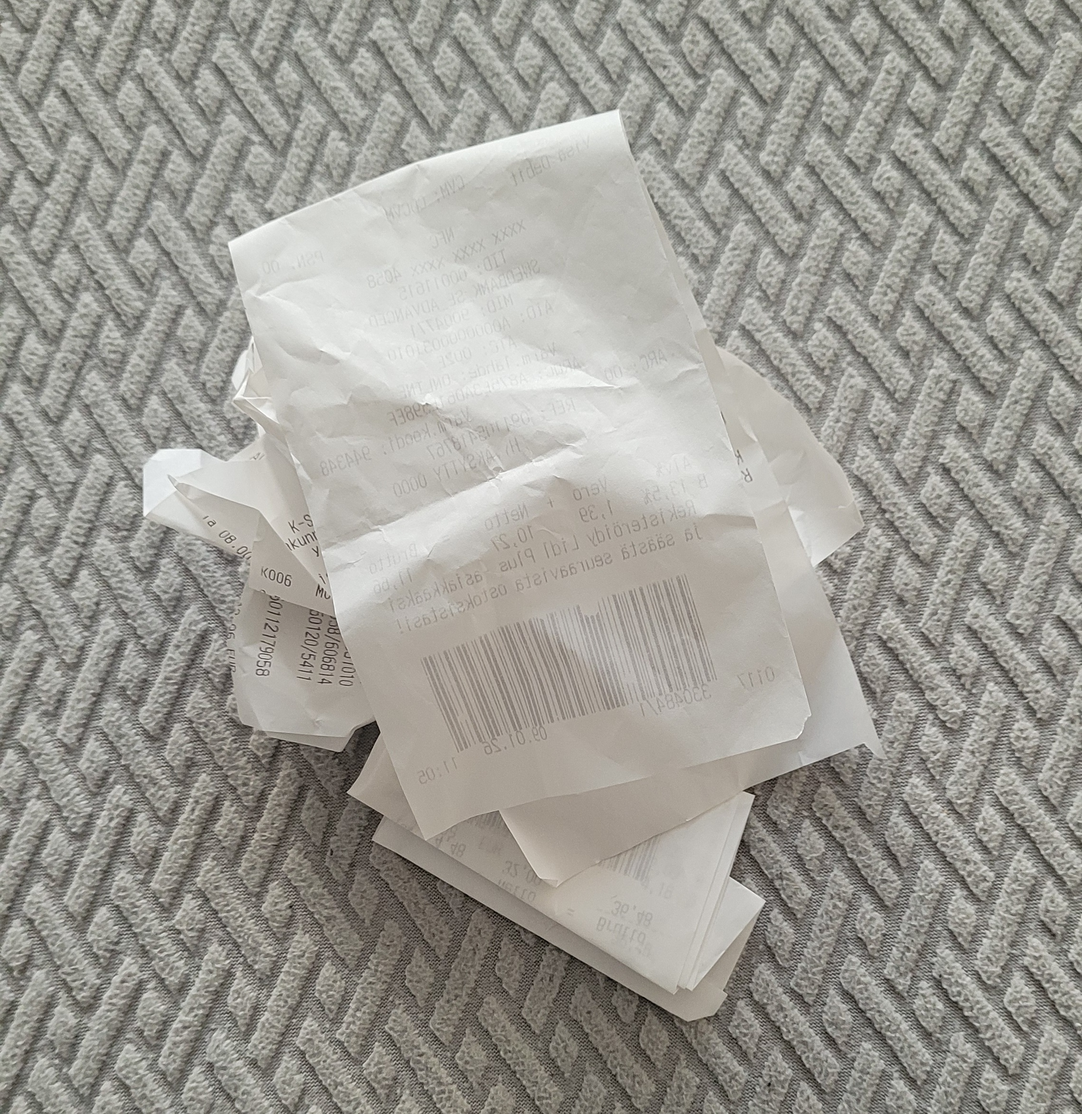paper: (139, 106, 881, 1029)
